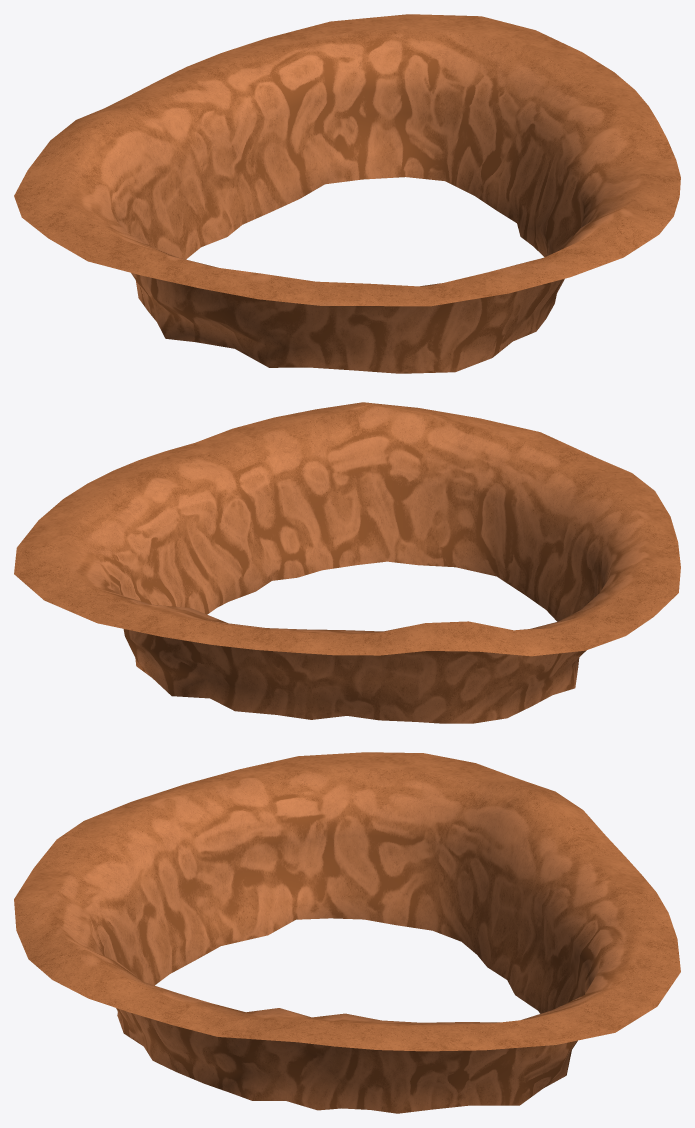
File: terrain_wall_test.fbx
3 renders of one model, top to bottom at view 1: azimuth 30°, elevation 25°; view 2: azimuth 150°, elevation 25°; view 3: azimuth 270°, elevation 25°, orthographic. The views are drawn at different scales.
Visible parts, largest first — view 1: Terrain_walls; view 2: Terrain_walls; view 3: Terrain_walls.
Part boxes in pixels (x1,y1,x2,y2): Terrain_walls: [14, 14, 680, 373]; Terrain_walls: [14, 402, 680, 723]; Terrain_walls: [14, 752, 680, 1113].
Size of the model in its own units: 23884 by 5373 by 22495.
